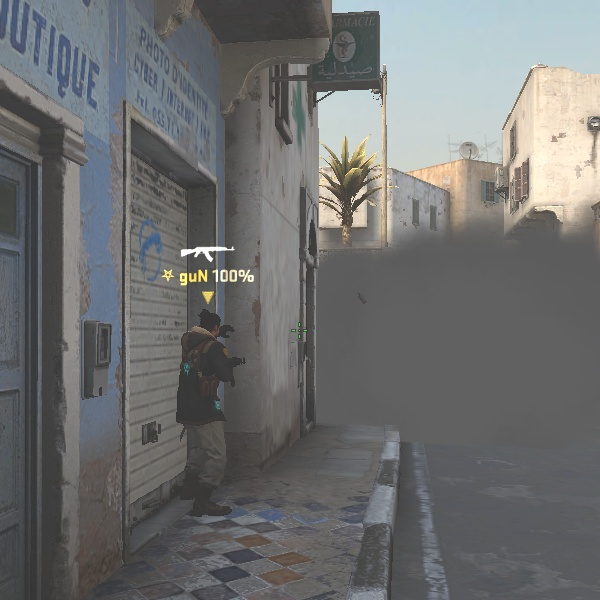t_body: (153, 306, 252, 517)
t_head: (184, 306, 226, 348)
